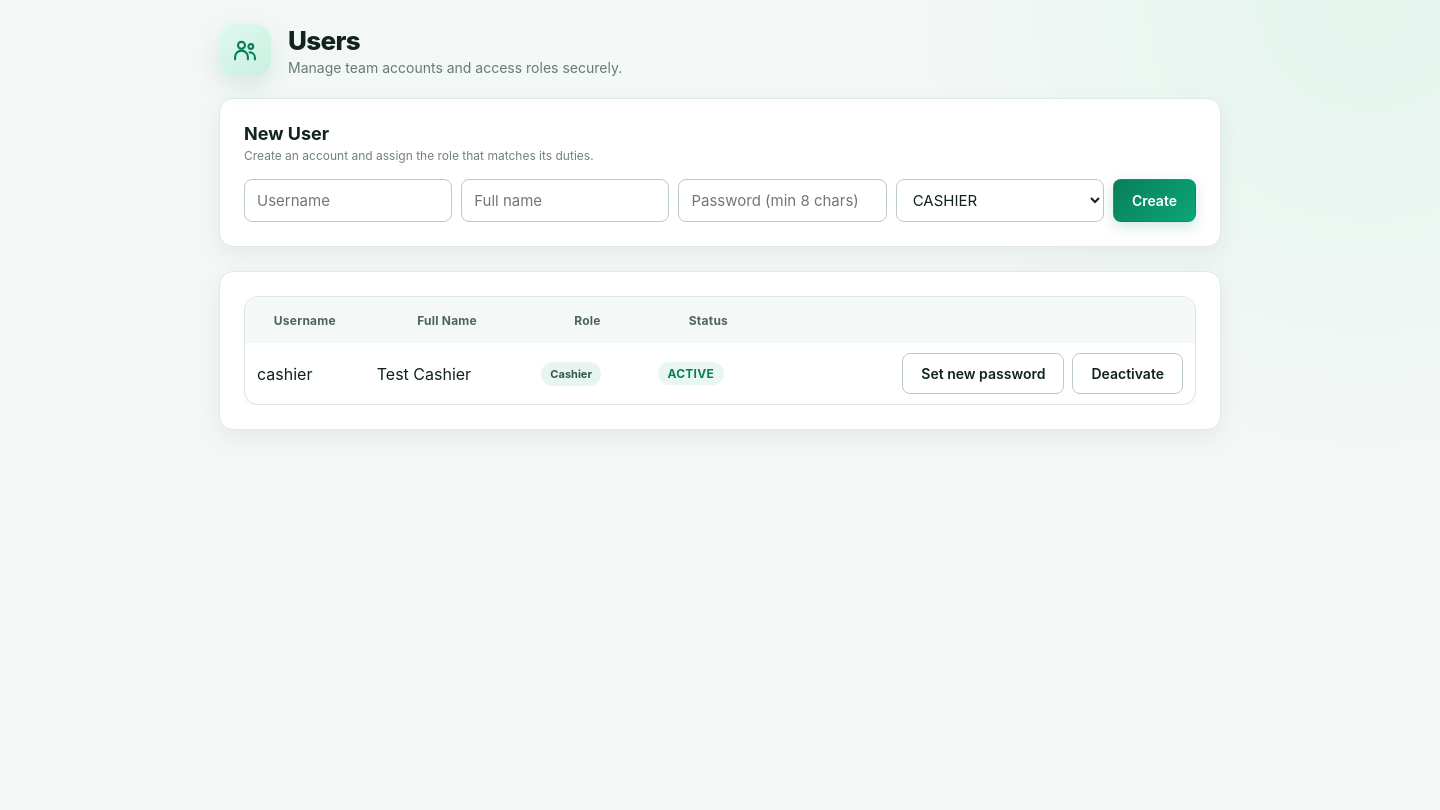
Test: UsersPage password reset › lets an administrator securely set a new password for a cashier
Click the button "Set new password": (983, 374) [902, 353, 1064, 394]
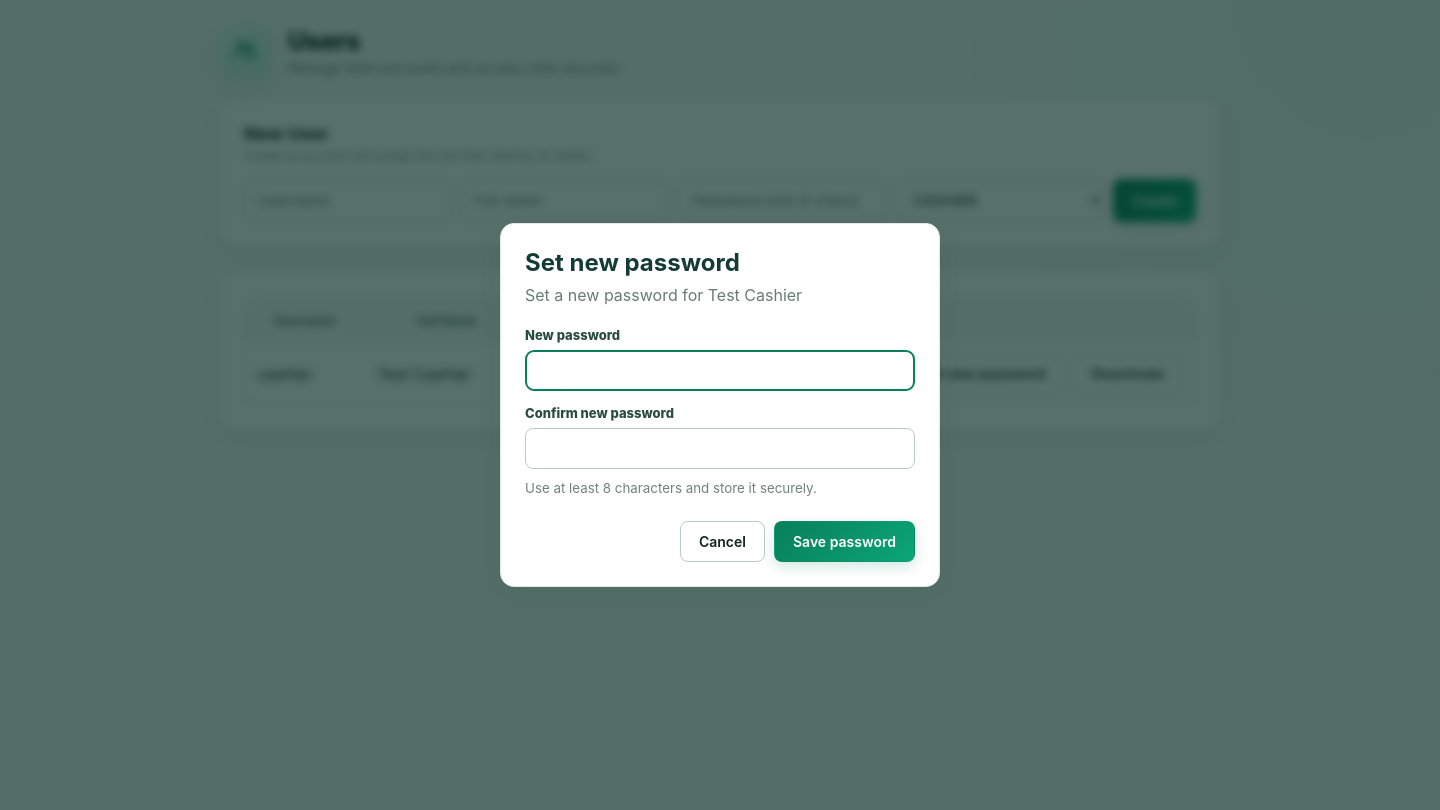
Check: the dialog "Set a new password for Test Cashier" is shown
In the password field labelled "New password": (720, 370) [525, 350, 915, 391], type "Cashier2026!"
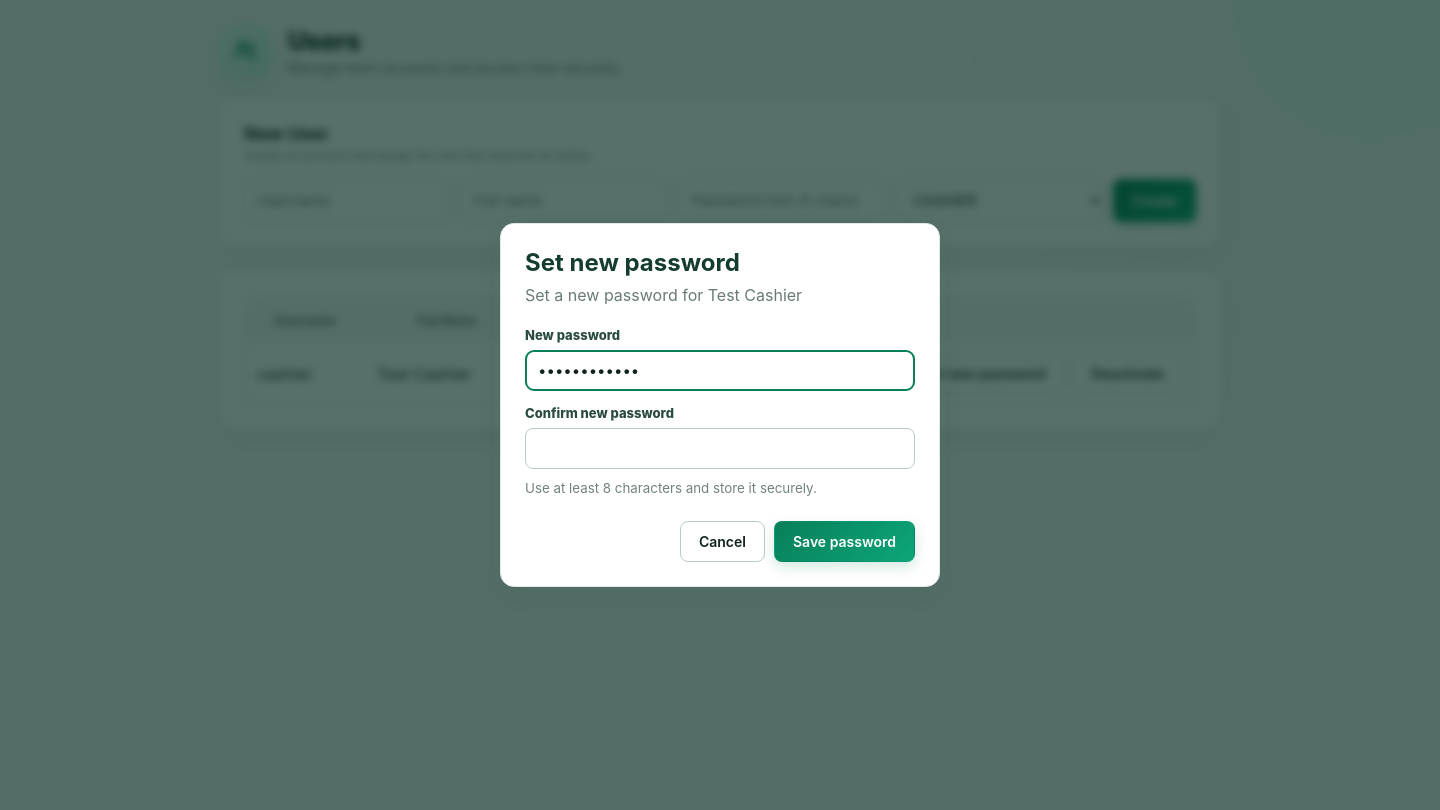
In the password field labelled "Confirm new password": (720, 448) [525, 428, 915, 469], type "Cashier2026!"
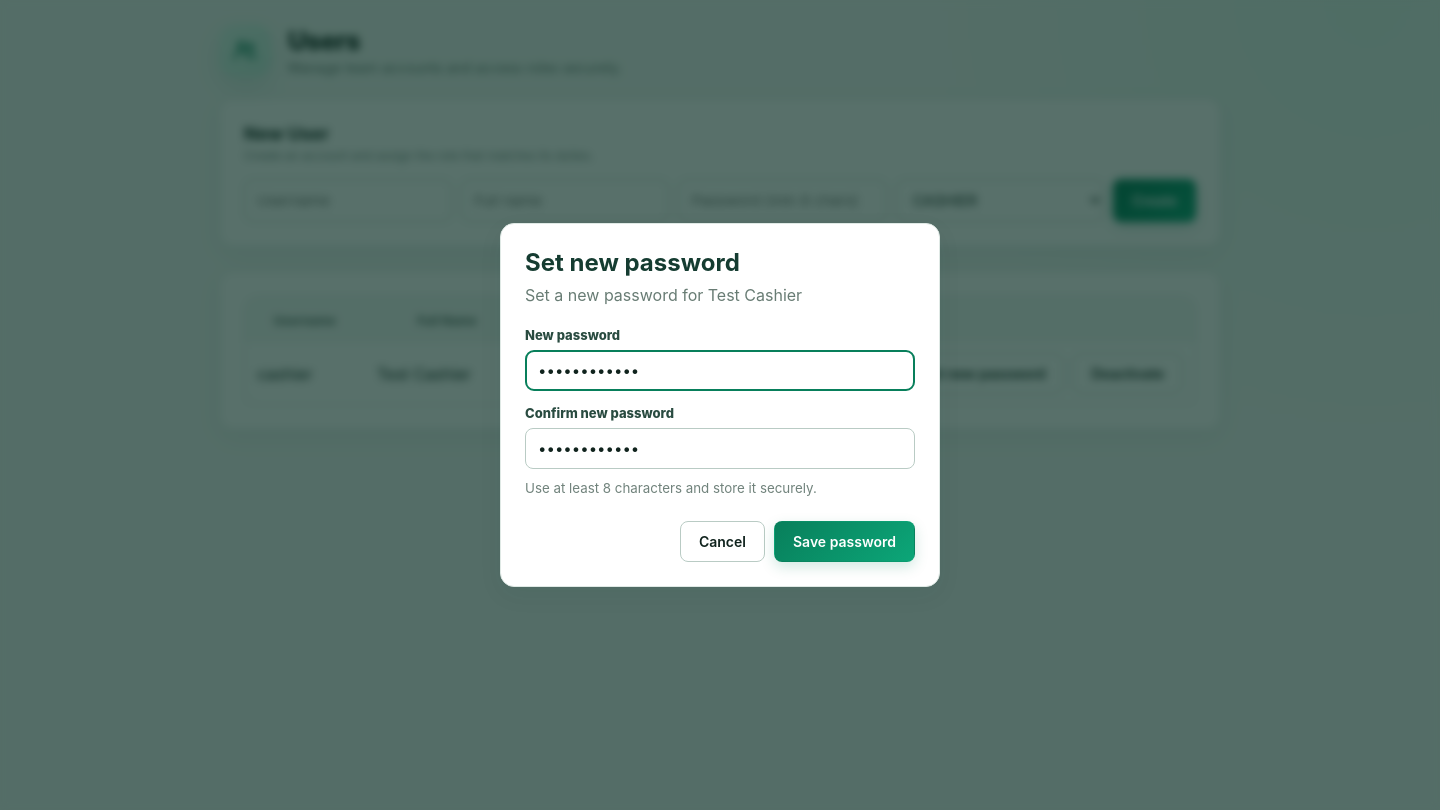
Click the button "Save password": (844, 542) [774, 521, 915, 562]
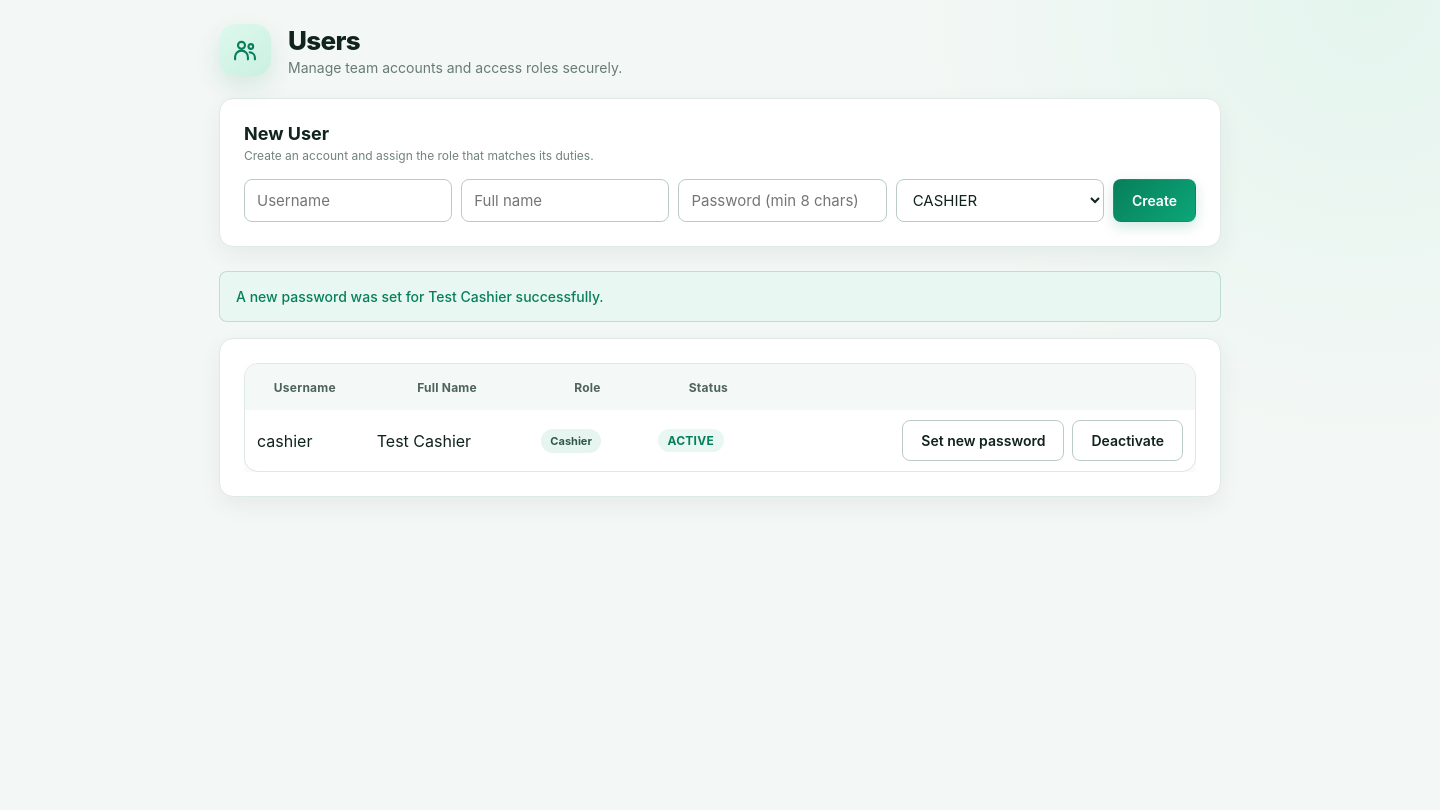
Check: the message reads "A new password was set for Test Cashier successfully.", box [236, 288, 604, 305]
Check: the dialog is gone
